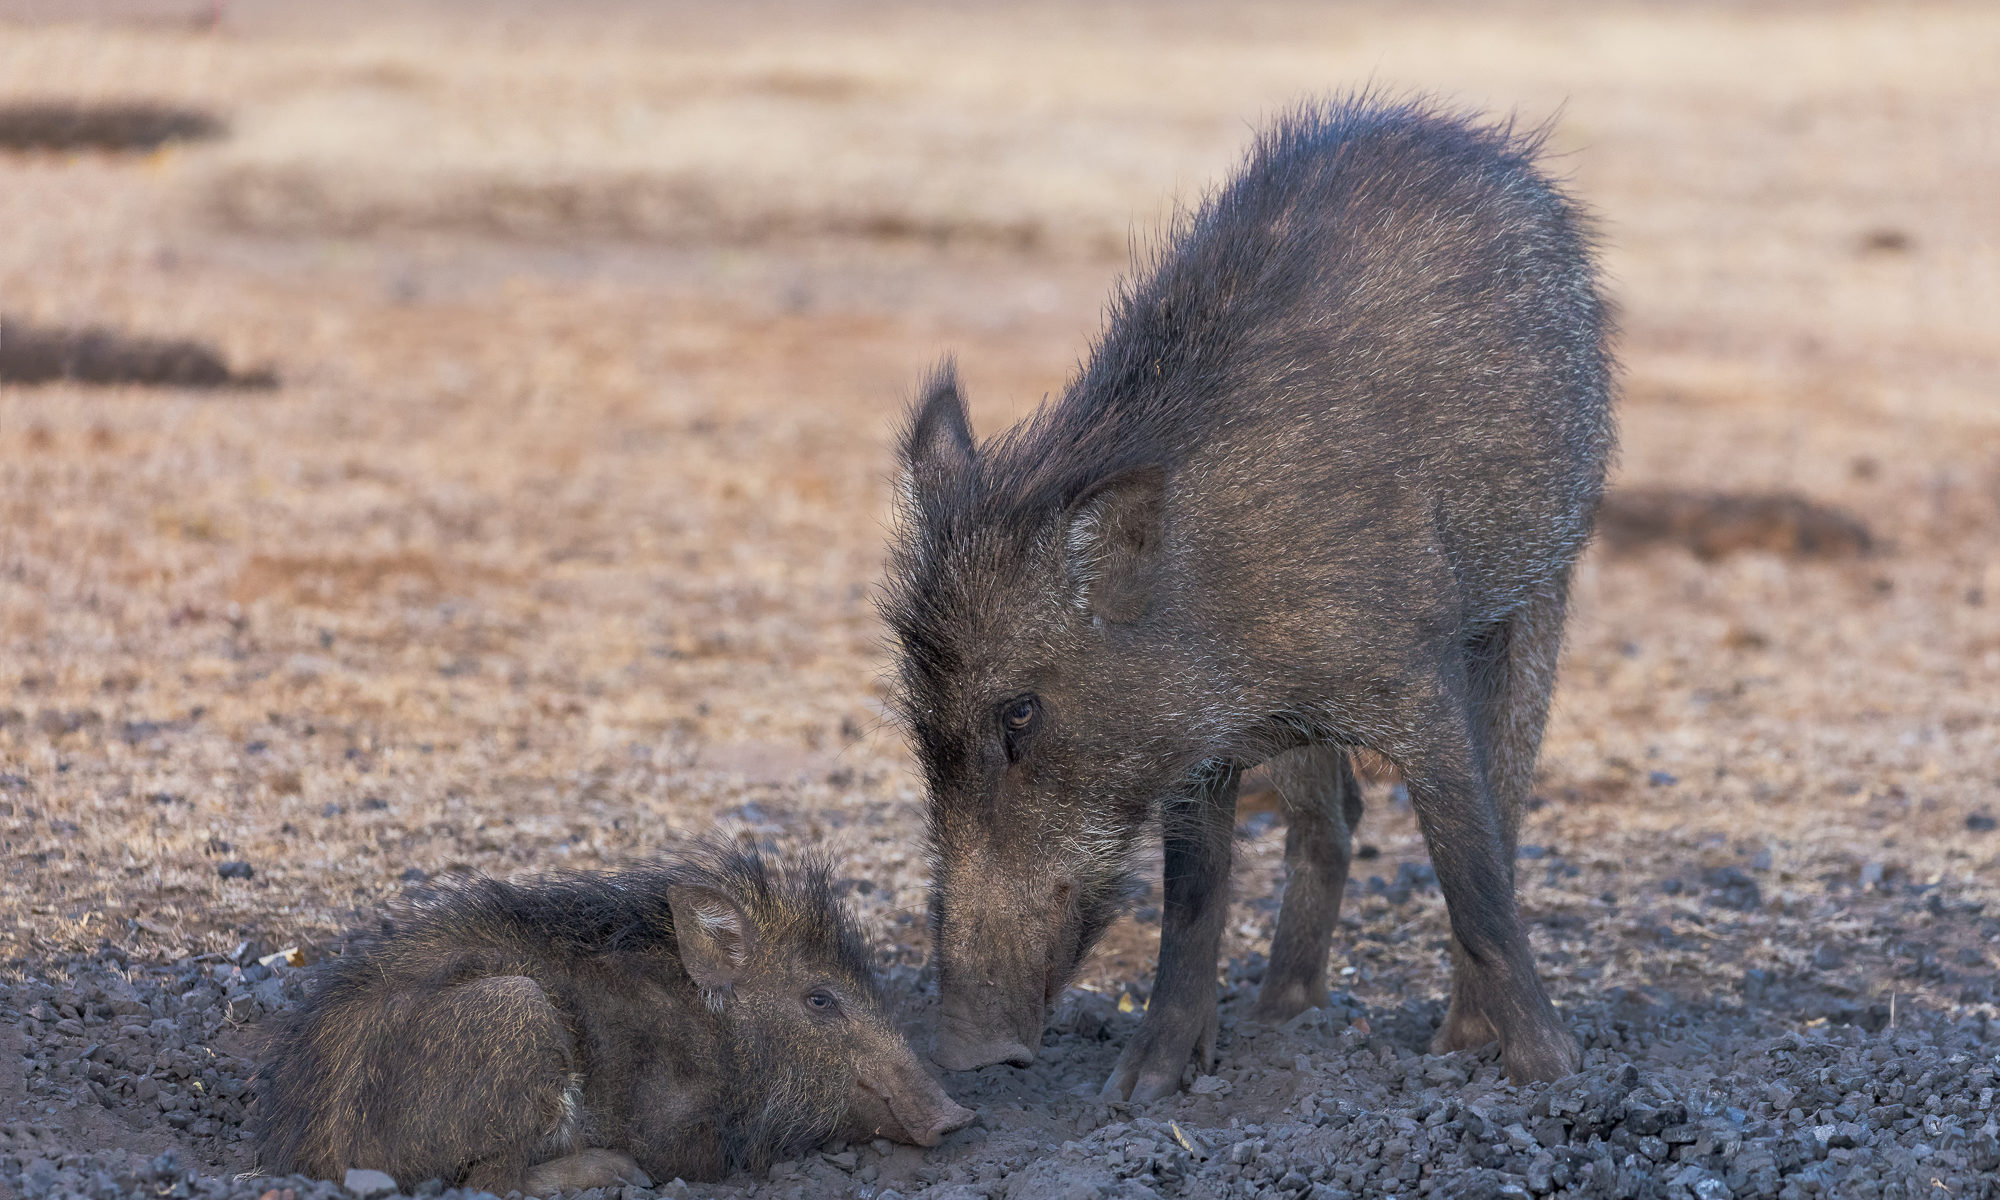wild boar: (859, 70, 1707, 1101), (234, 850, 991, 1199)
